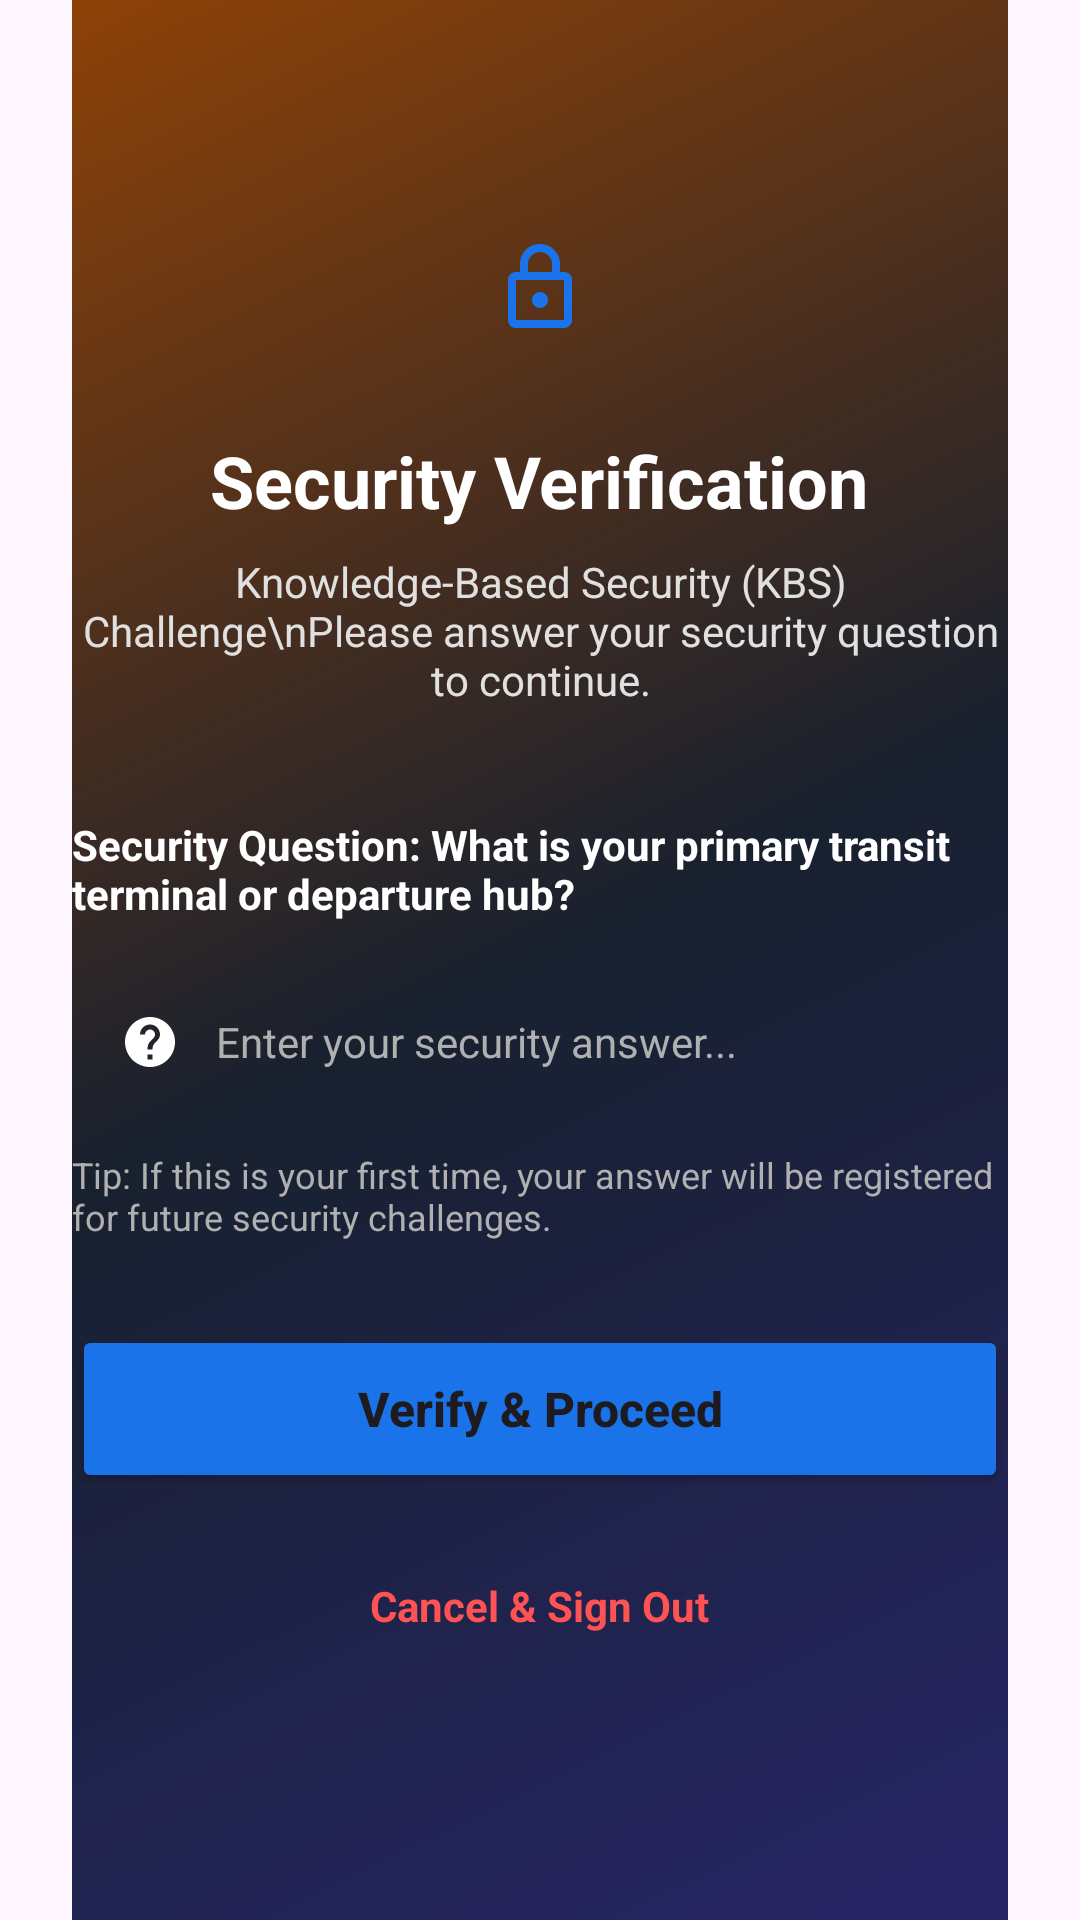

Where to tap for icons on this 1080 x 1920 app screen, as [x,y]:
help: [150,1042]
lock: [540,286]
